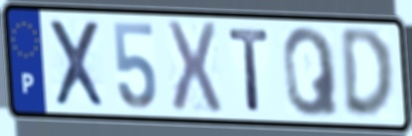5: (111, 18, 159, 112)
D: (337, 26, 397, 123)
Q: (280, 25, 343, 120)
T: (227, 26, 273, 114)
X: (45, 15, 109, 111), (163, 18, 225, 116)
